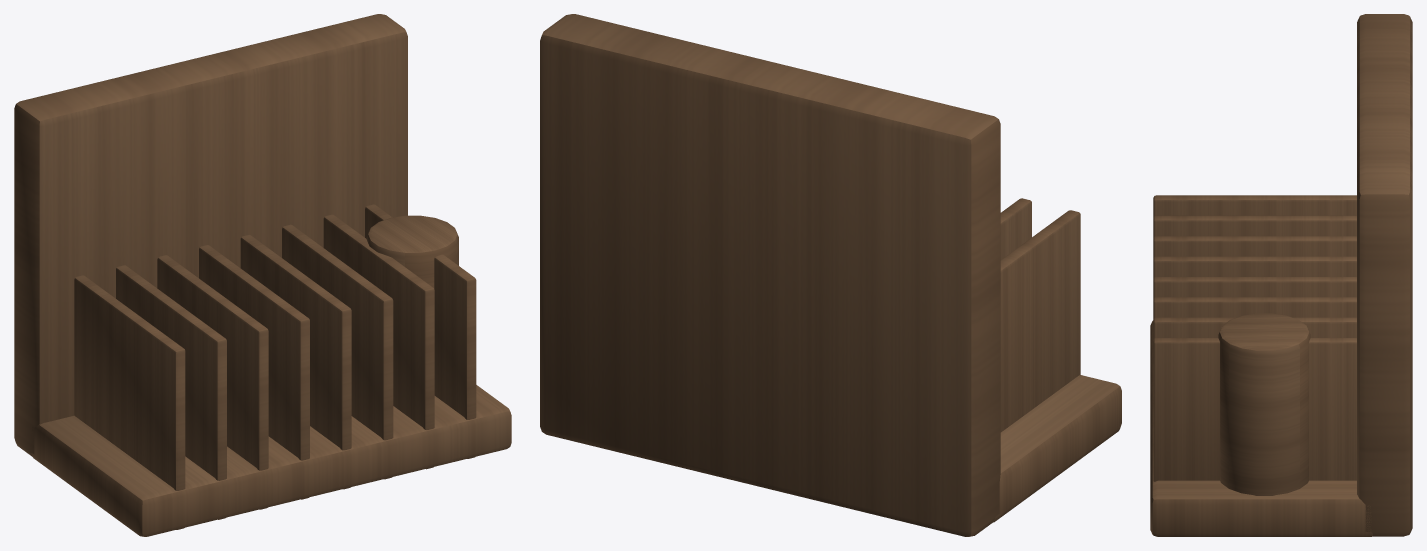
The model's file is scorecard_holder_high_end.glb.
3 renders of one model, left to right at view 1: azimuth 30°, elevation 25°; view 2: azimuth 150°, elevation 25°; view 3: azimuth 270°, elevation 25°, orthographic. The views are drawn at different scales.
Visible parts, largest first — view 1: ScorecardHolder_Back, ScorecardHolder_Lip, ScorecardHolder_Divider_1, ScorecardHolder_Divider_6, ScorecardHolder_Divider_3, ScorecardHolder_Divider_5, ScorecardHolder_Divider_4, ScorecardHolder_Divider_2, ScorecardHolder_Divider_7, ScorecardHolder_Divider_8, ScorecardHolder_PencilCup; view 2: ScorecardHolder_Back, ScorecardHolder_Divider_1, ScorecardHolder_Lip, ScorecardHolder_Divider_2; view 3: ScorecardHolder_Back, ScorecardHolder_Divider_8, ScorecardHolder_PencilCup, ScorecardHolder_Lip, ScorecardHolder_Divider_2, ScorecardHolder_Divider_1, ScorecardHolder_Divider_3, ScorecardHolder_Divider_4, ScorecardHolder_Divider_5, ScorecardHolder_Divider_6, ScorecardHolder_Divider_7.
Part boxes in pixels (x1,y1,x2,y2): ScorecardHolder_Back: (14,14,407,456); ScorecardHolder_Lip: (31,385,511,536); ScorecardHolder_Divider_1: (74,275,185,529); ScorecardHolder_Divider_6: (282,224,393,479); ScorecardHolder_Divider_3: (157,255,268,509); ScorecardHolder_Divider_5: (240,235,351,489); ScorecardHolder_Divider_4: (199,245,309,499); ScorecardHolder_Divider_2: (116,265,226,519); ScorecardHolder_Divider_7: (323,214,434,469); ScorecardHolder_Divider_8: (365,204,476,458); ScorecardHolder_PencilCup: (366,215,458,288); ScorecardHolder_Back: (540,14,1000,536); ScorecardHolder_Divider_1: (1000,210,1080,432); ScorecardHolder_Lip: (993,375,1121,522); ScorecardHolder_Divider_2: (1000,198,1031,259); ScorecardHolder_Back: (1357,14,1412,536); ScorecardHolder_Divider_8: (1153,338,1356,481); ScorecardHolder_PencilCup: (1218,313,1310,495); ScorecardHolder_Lip: (1150,320,1372,536); ScorecardHolder_Divider_2: (1153,215,1356,237); ScorecardHolder_Divider_1: (1153,195,1356,217); ScorecardHolder_Divider_3: (1153,236,1356,258); ScorecardHolder_Divider_4: (1153,256,1356,278); ScorecardHolder_Divider_5: (1153,277,1356,298); ScorecardHolder_Divider_6: (1153,297,1356,319); ScorecardHolder_Divider_7: (1153,317,1356,339).
Size of what is drawn, in the model's own units: 0.35 by 0.31 by 0.2125.
1 material, 1 textured.
